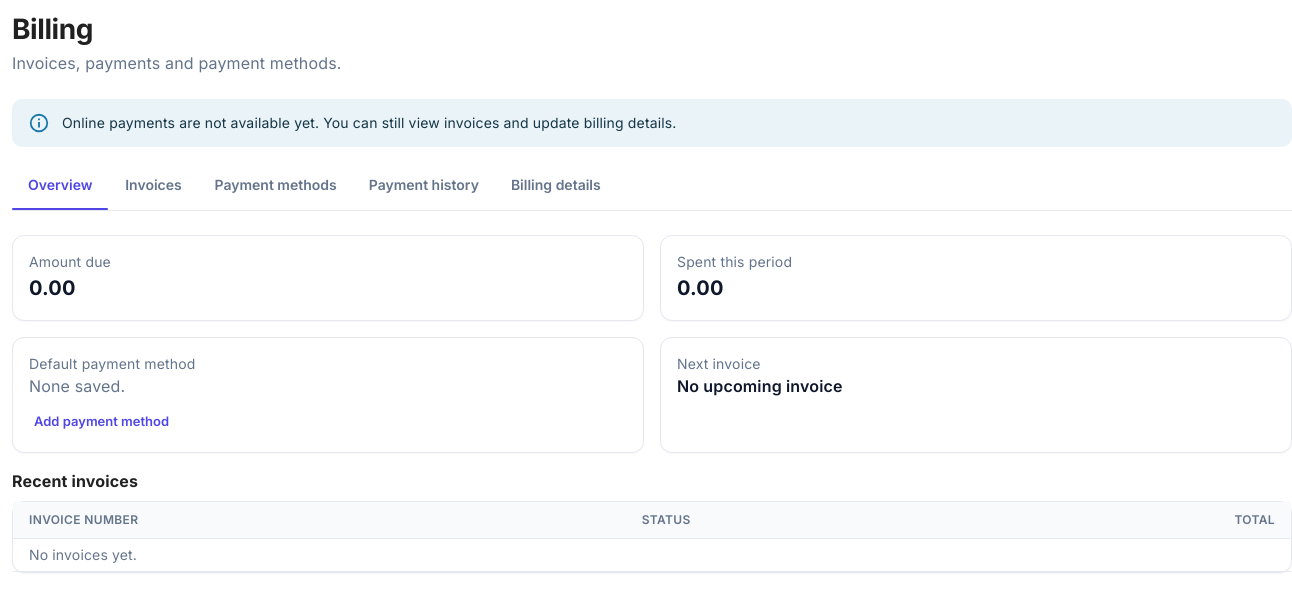
BillingPage › lists invoices on the Invoices tab
Click the tab "Invoices".
click(154, 185)  # box top-left (108, 163), bottom-right (198, 207)
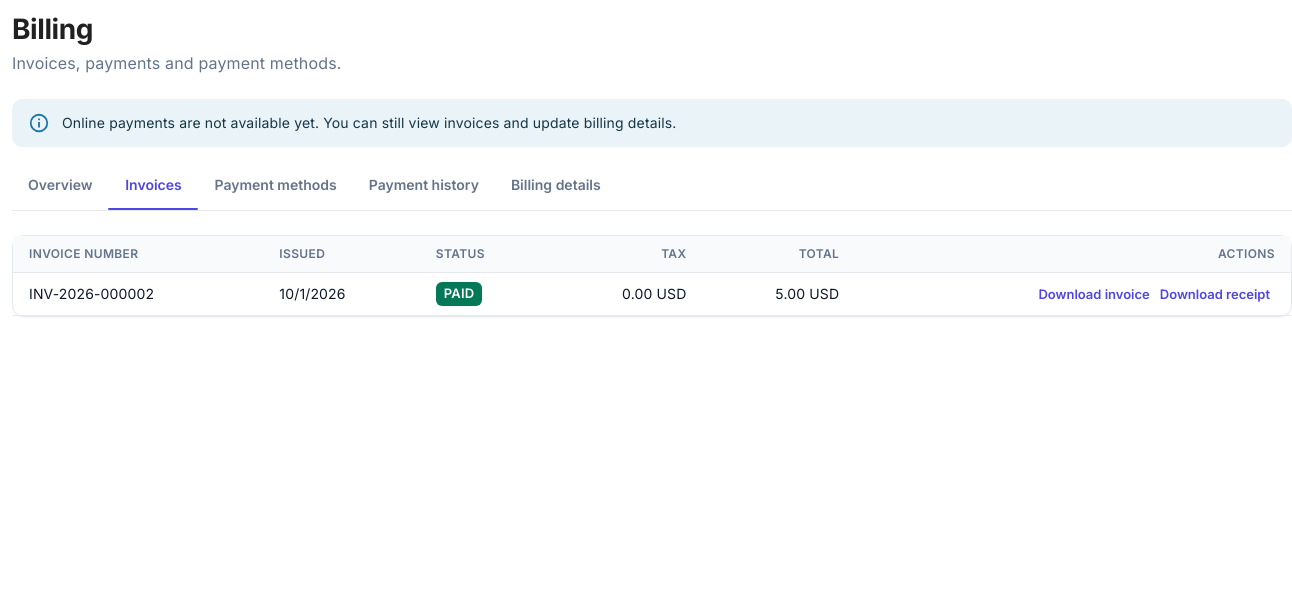
Now the text "INV-2026-000002" is shown, box top-left (13, 272), bottom-right (263, 316)
